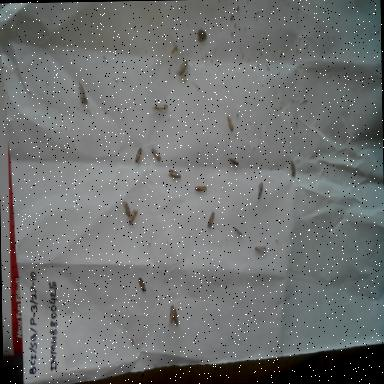pbw: (130, 270, 152, 296), (167, 300, 185, 330), (202, 207, 220, 233), (78, 82, 92, 108), (176, 58, 192, 78), (166, 166, 184, 182), (152, 100, 171, 114), (288, 158, 300, 180), (151, 142, 163, 164), (254, 180, 266, 202), (194, 182, 210, 197), (226, 154, 242, 169), (120, 198, 132, 218), (252, 241, 269, 255), (128, 208, 140, 227), (225, 114, 236, 134), (133, 148, 144, 166), (232, 224, 244, 237)
